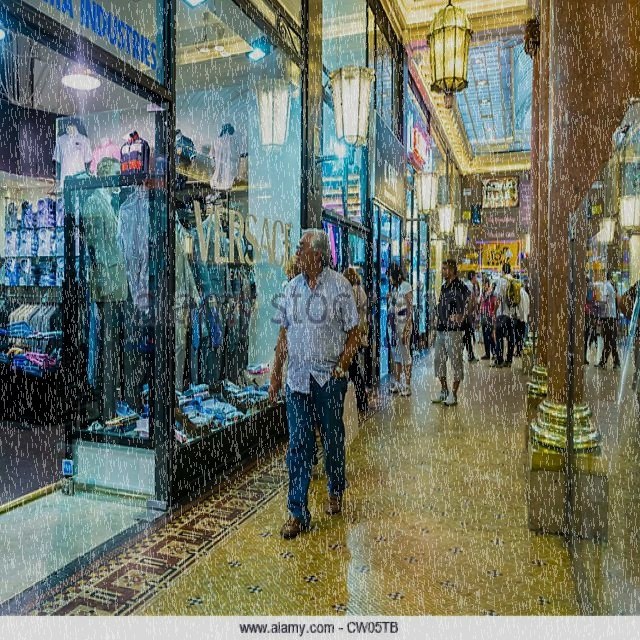pessoa: (48, 120, 258, 432), (266, 224, 363, 542), (276, 252, 361, 477), (580, 268, 639, 419), (427, 256, 476, 408), (382, 261, 417, 398), (341, 266, 371, 416), (488, 260, 522, 370), (476, 275, 499, 361), (462, 268, 481, 364), (512, 281, 531, 359), (472, 279, 530, 297), (473, 296, 484, 346)
